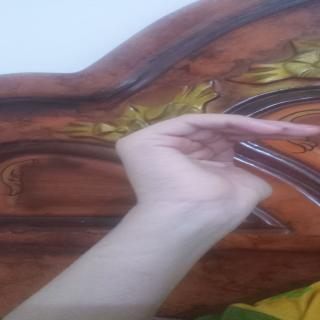HAA: (111, 112, 320, 226)
